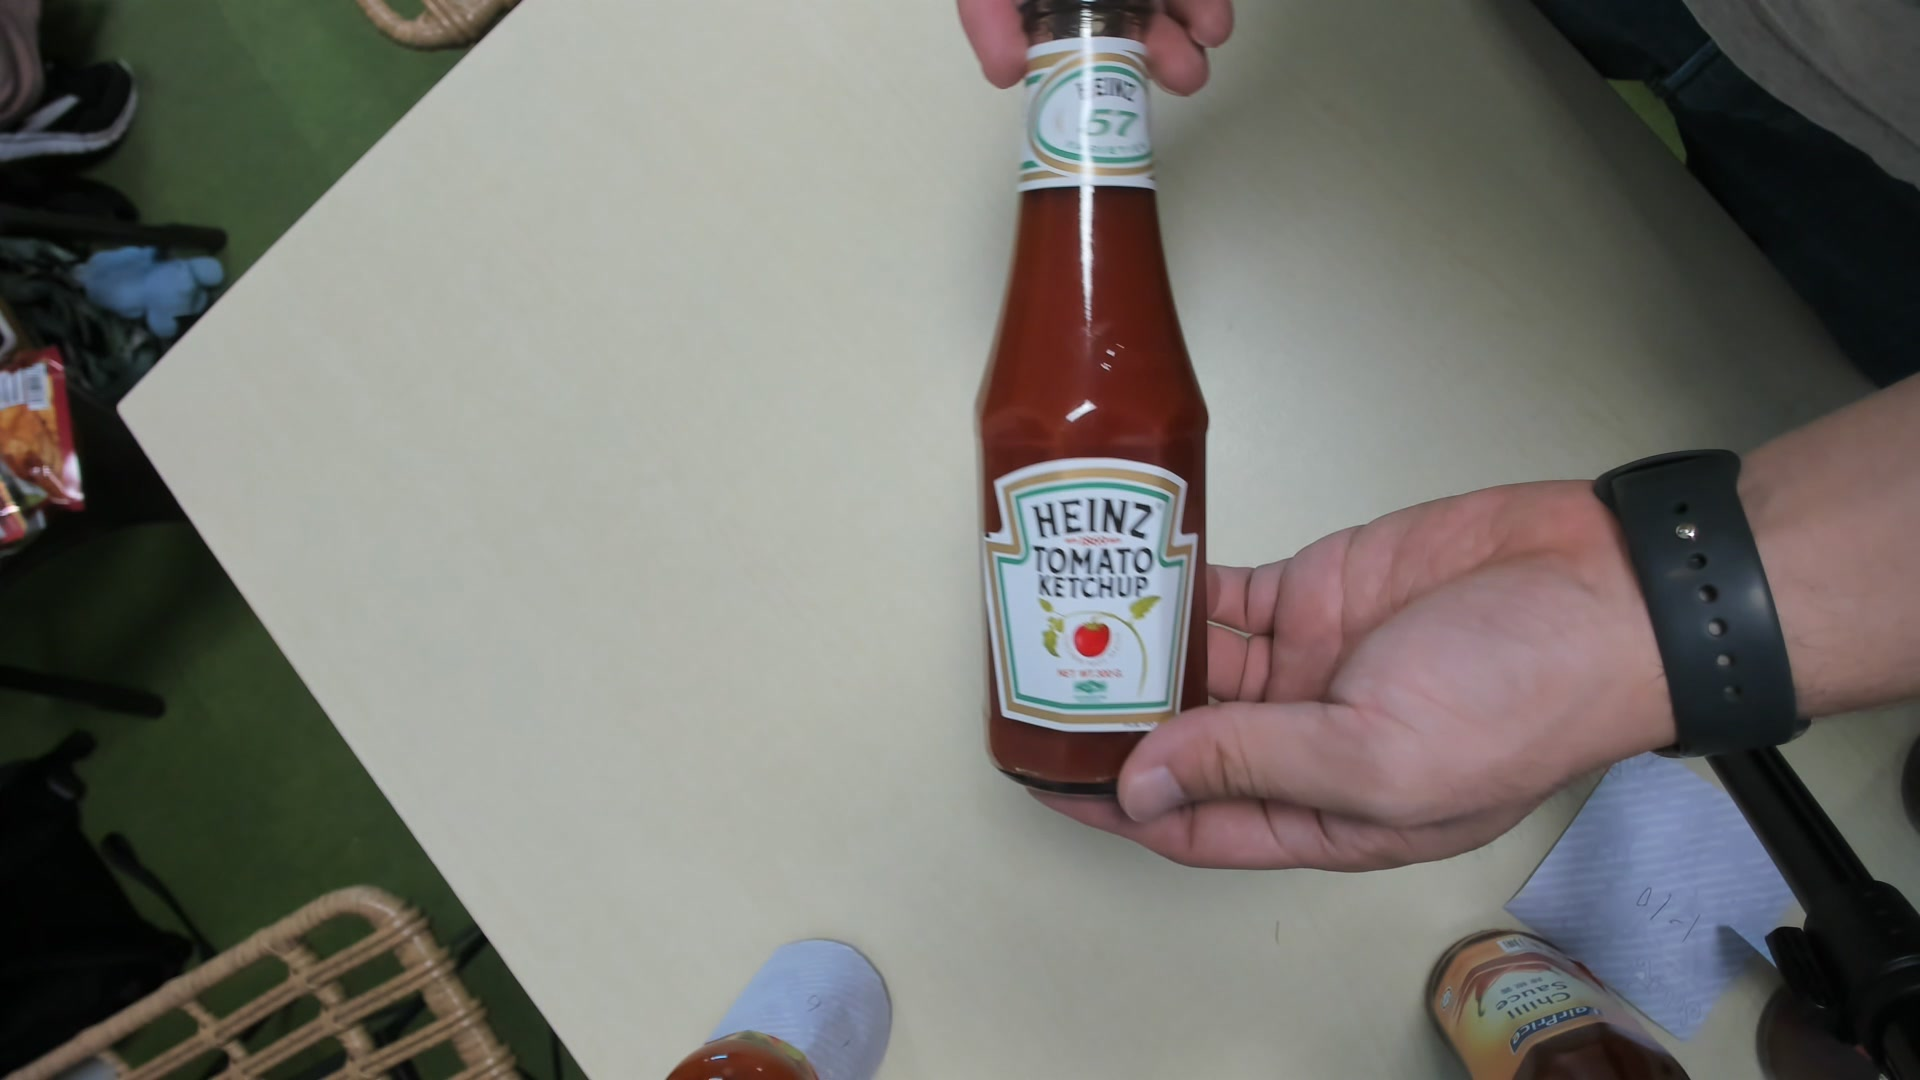KetchupChillSauce_300-399g_Halal_NonHealthy: (972, 1, 1217, 796)
